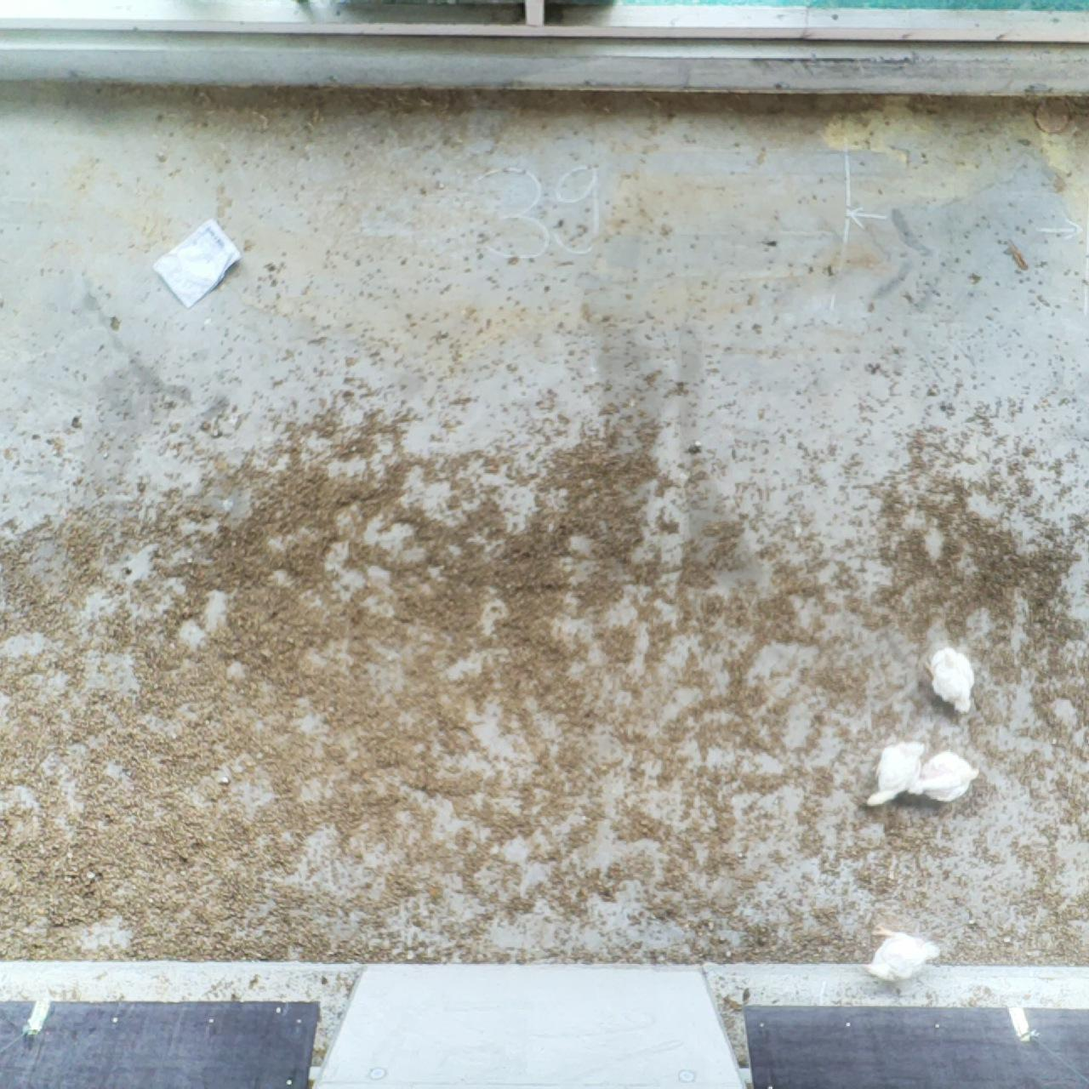chicken: (858, 918, 942, 984), (864, 738, 931, 815), (904, 748, 982, 806), (924, 643, 978, 719)
